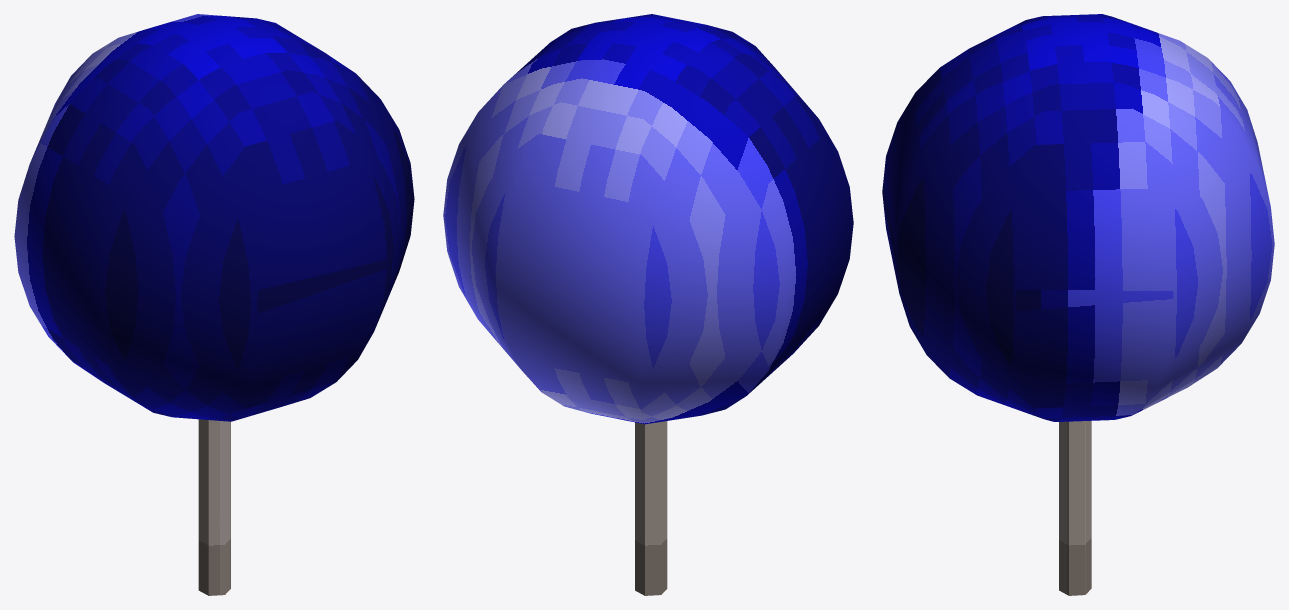
The model's file is 03_planetx00.gltf.
The picture shows the model from 3 angles, left to right: view 1: azimuth 30°, elevation 25°; view 2: azimuth 150°, elevation 25°; view 3: azimuth 270°, elevation 25°; orthographic projection.
Visible parts, largest first — view 1: 03_planetx00; view 2: 03_planetx00; view 3: 03_planetx00.
Part boxes in pixels (left/top/right/bottom): 03_planetx00: left=14, top=14, right=414, bottom=595; 03_planetx00: left=443, top=14, right=853, bottom=595; 03_planetx00: left=882, top=14, right=1274, bottom=595.
Size of the model in its own units: 1.91 by 2.99 by 1.91.
2 materials, 2 textured.
